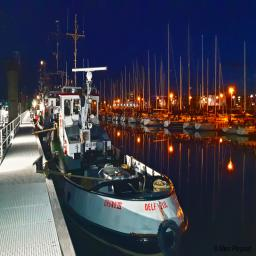tugboat: (43, 58, 191, 256)
